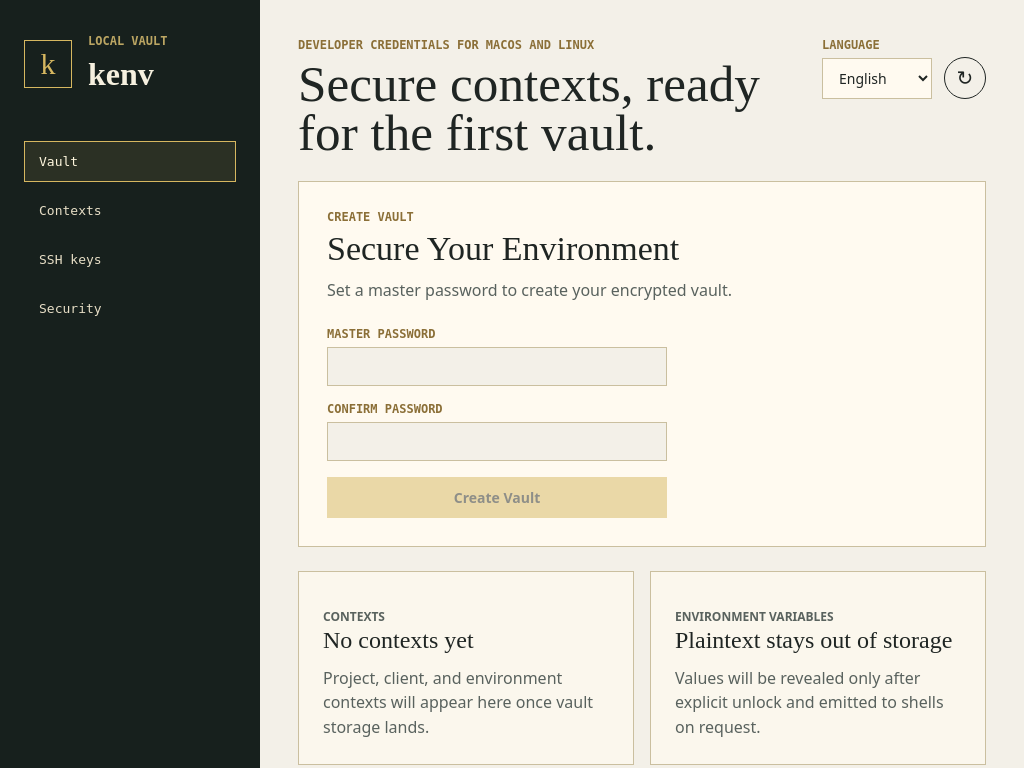
Scenario: App › switches locale immediately and persists the selection
The image size is (1024, 768).
Select "中文" in the dropdown with class "locale-select": {"x": 877, "y": 78} [822, 58, 932, 99]
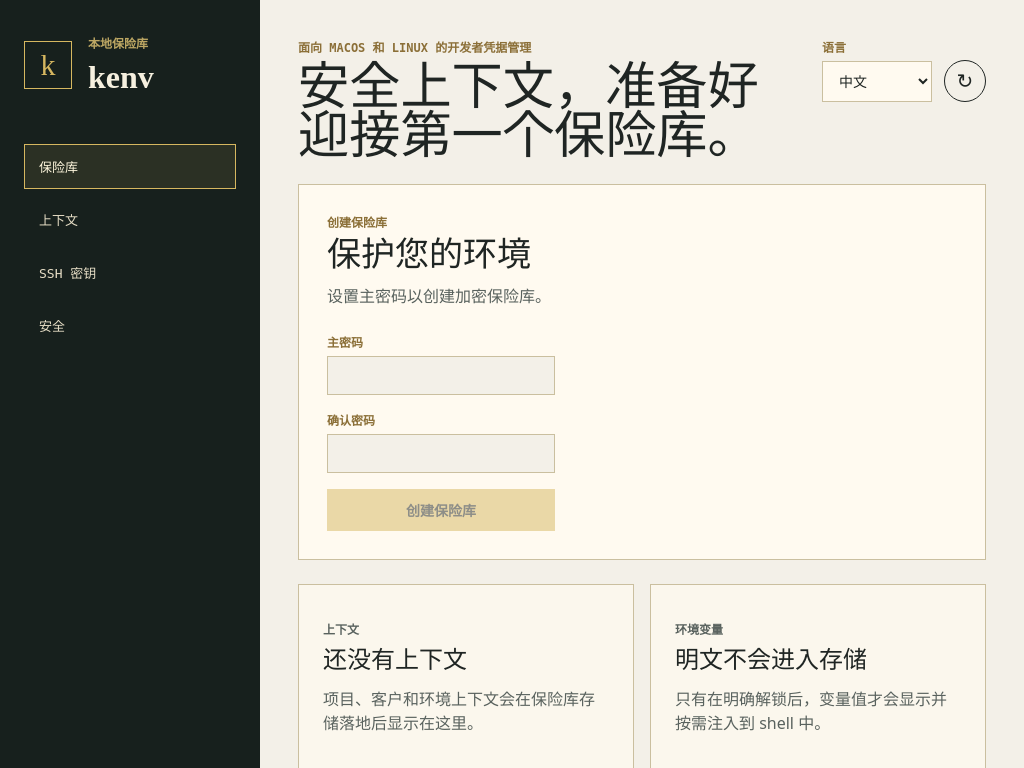
Expected: the button named "刷新保险库状态" is shown, [944, 60, 986, 102]
Expected: the heading "安全上下文，准备好迎接第一个保险库。" is shown, [298, 63, 798, 160]
